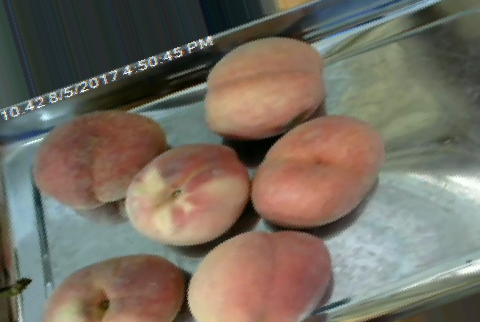Peach: (255, 112, 383, 227), (32, 110, 166, 208), (189, 230, 331, 322), (123, 144, 247, 247), (204, 36, 324, 139), (45, 254, 184, 322)
